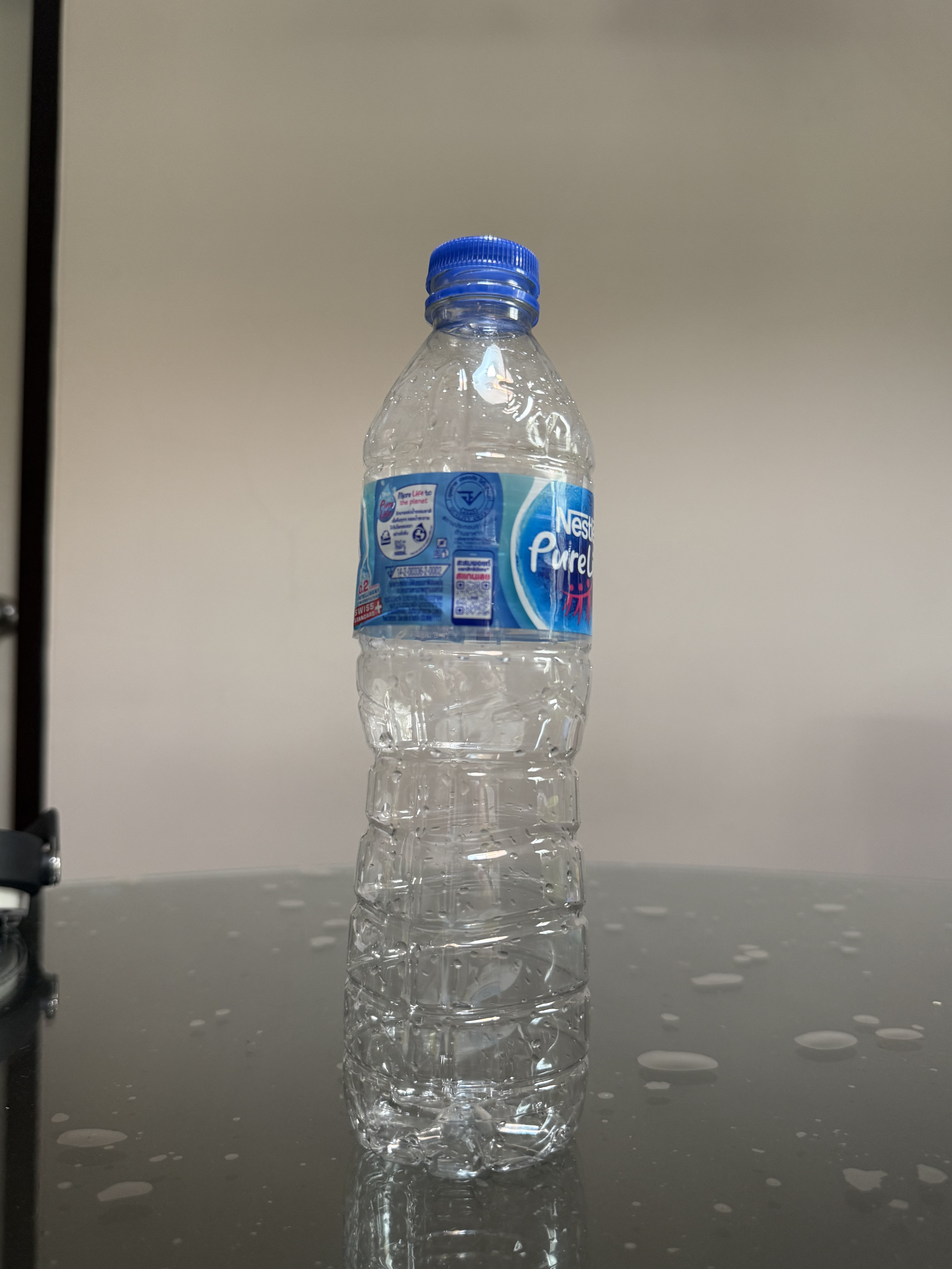half_cap: (422, 232, 541, 327)
